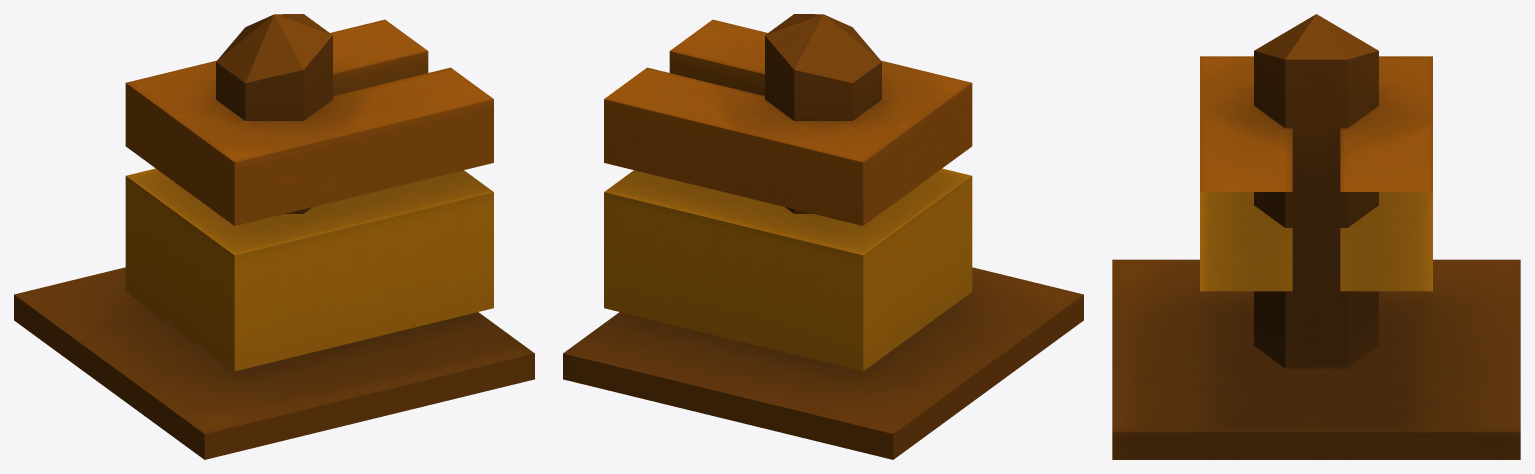
File: BarriereBois_Fin.FBX
3 renders of one model, left to right at view 1: azimuth 30°, elevation 25°; view 2: azimuth 150°, elevation 25°; view 3: azimuth 270°, elevation 25°, orthographic. The views are drawn at different scales.
Visible parts, largest first — view 1: BarriereBois_Fin; view 2: BarriereBois_Fin; view 3: BarriereBois_Fin.
Boxes of the visible parts, box(x1,y1,x2,y2) form: BarriereBois_Fin: box(14, 14, 534, 459); BarriereBois_Fin: box(563, 14, 1083, 459); BarriereBois_Fin: box(1112, 14, 1520, 459).
Bounding box in the file's own units: 1 × 0.9713 × 1.
